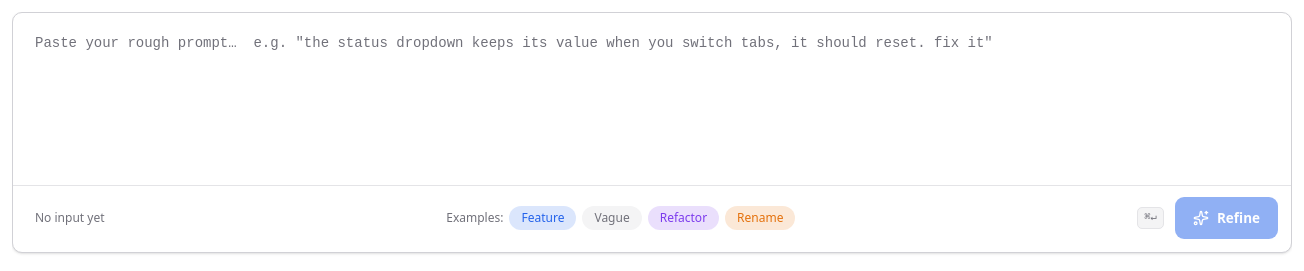
Test: PromptInput › Refine is enabled after typing a valid prompt
This screenshot has width=1304, height=271.
Replace the text in the text box with "add dark mode": (652, 99) [13, 13, 1291, 185]
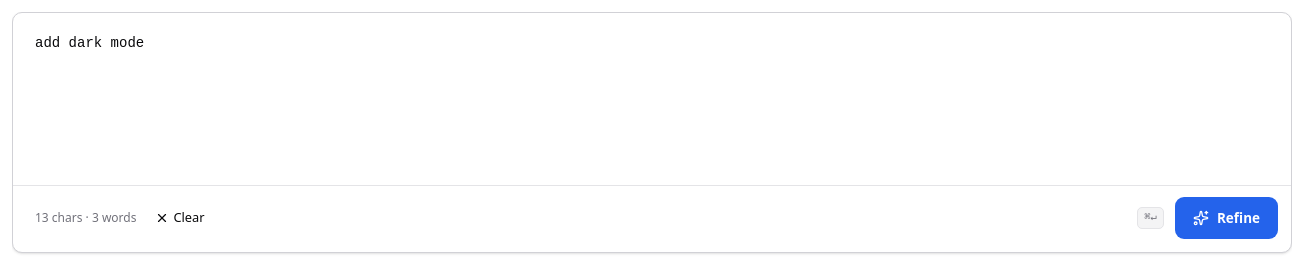
Check: the button "Refine" is enabled, box [1174, 196, 1279, 240]
